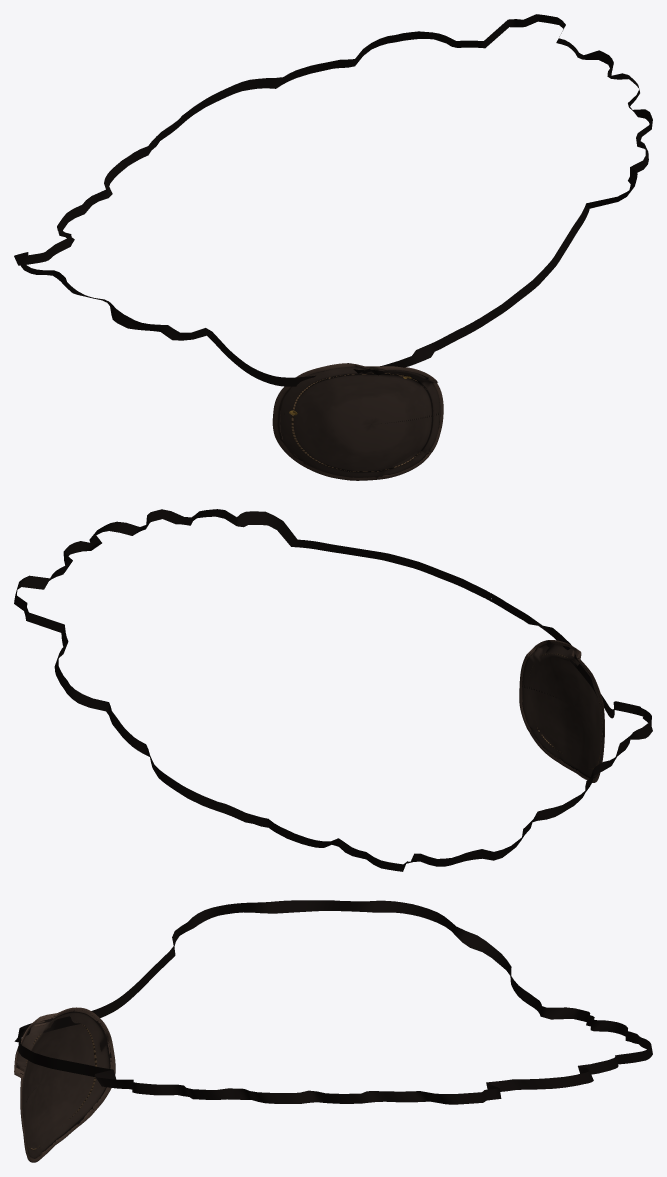
File: eyes_eyepatch_male_hi.glb
The picture shows the model from 3 angles, top to bottom: view 1: azimuth 30°, elevation 25°; view 2: azimuth 150°, elevation 25°; view 3: azimuth 270°, elevation 25°; orthographic projection. The views are drawn at different scales.
Parts seen in each view (by area): view 1: eyes_eyepatch_hi; view 2: eyes_eyepatch_hi; view 3: eyes_eyepatch_hi.
Part boxes in pixels (x1,y1,x2,y2): eyes_eyepatch_hi: [14, 14, 652, 480]; eyes_eyepatch_hi: [14, 509, 652, 871]; eyes_eyepatch_hi: [14, 900, 652, 1162].
Bounding box in the file's own units: 0.4998 × 0.2022 × 0.4537.
Materials: 1 (1 with a texture image).
